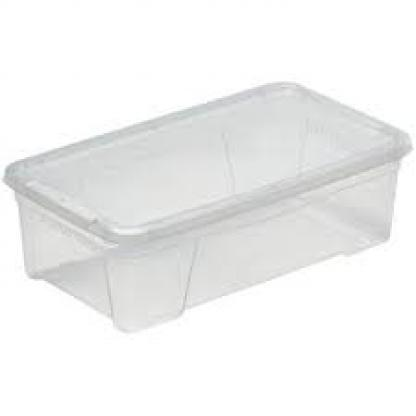plastic_box: (6, 68, 414, 333)
